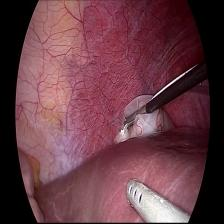Grasper: (121, 103, 148, 131)
Irrigator: (123, 175, 161, 224)
Specimen Bag: (114, 90, 178, 148)
